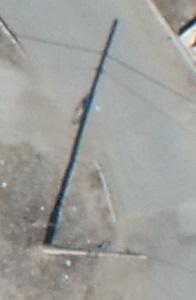opora: (37, 209, 149, 261)
